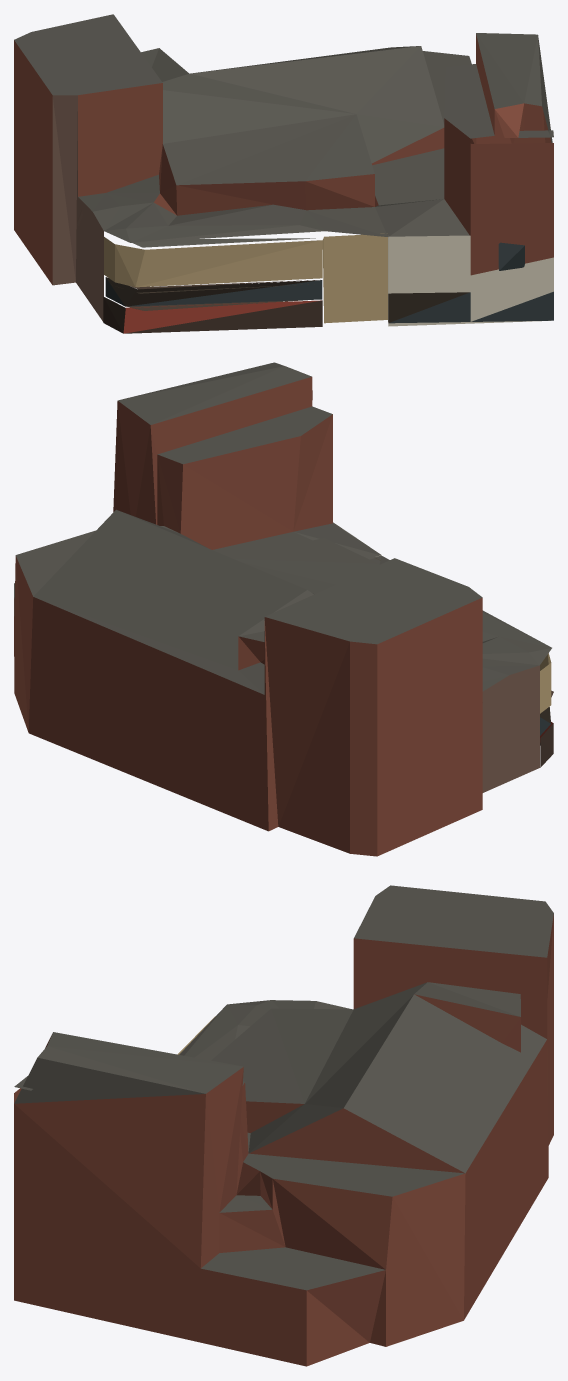
The model's file is theater-bellevue.lod2.glb.
3 renders of one model, top to bottom at view 1: azimuth 30°, elevation 25°; view 2: azimuth 150°, elevation 25°; view 3: azimuth 270°, elevation 25°, orthographic. The views are drawn at different scales.
Parts seen in each view (by area): view 1: lod2; view 2: lod2; view 3: lod2.
Boxes of the visible parts, x1,y1,x2,y2 form: lod2: (14,14,553,333); lod2: (14,362,553,856); lod2: (14,885,553,1366).
Bounding box in the file's own units: 44.15 × 19.79 × 38.82.
